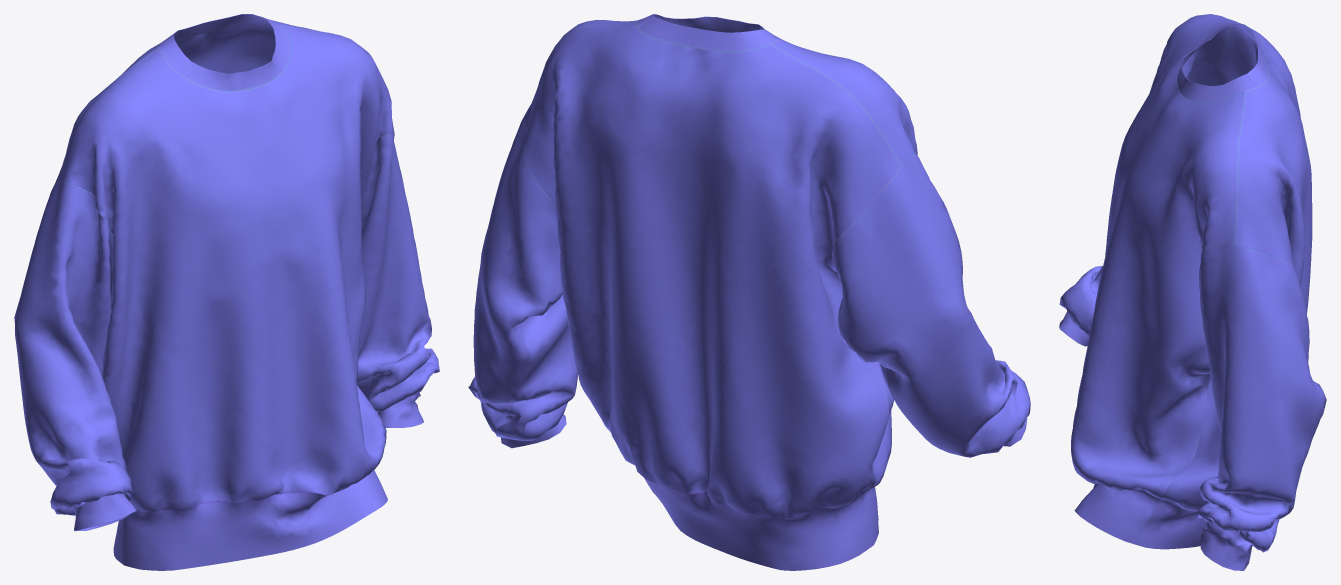
Rendered from Sweatshirt.glb.
The picture shows the model from 3 angles, left to right: view 1: azimuth 30°, elevation 25°; view 2: azimuth 150°, elevation 25°; view 3: azimuth 270°, elevation 25°; orthographic projection. The views are drawn at different scales.
Visible parts, largest first — view 1: sweatshirt V2- Cam/360; view 2: sweatshirt V2- Cam/360; view 3: sweatshirt V2- Cam/360.
Part boxes in pixels (x1,y1,x2,y2): sweatshirt V2- Cam/360: (14, 14, 439, 570); sweatshirt V2- Cam/360: (468, 14, 1030, 570); sweatshirt V2- Cam/360: (1059, 14, 1326, 570).
Bounding box in the file's own units: 0.6964 × 0.7396 × 0.3685.
1 material, 1 textured.
